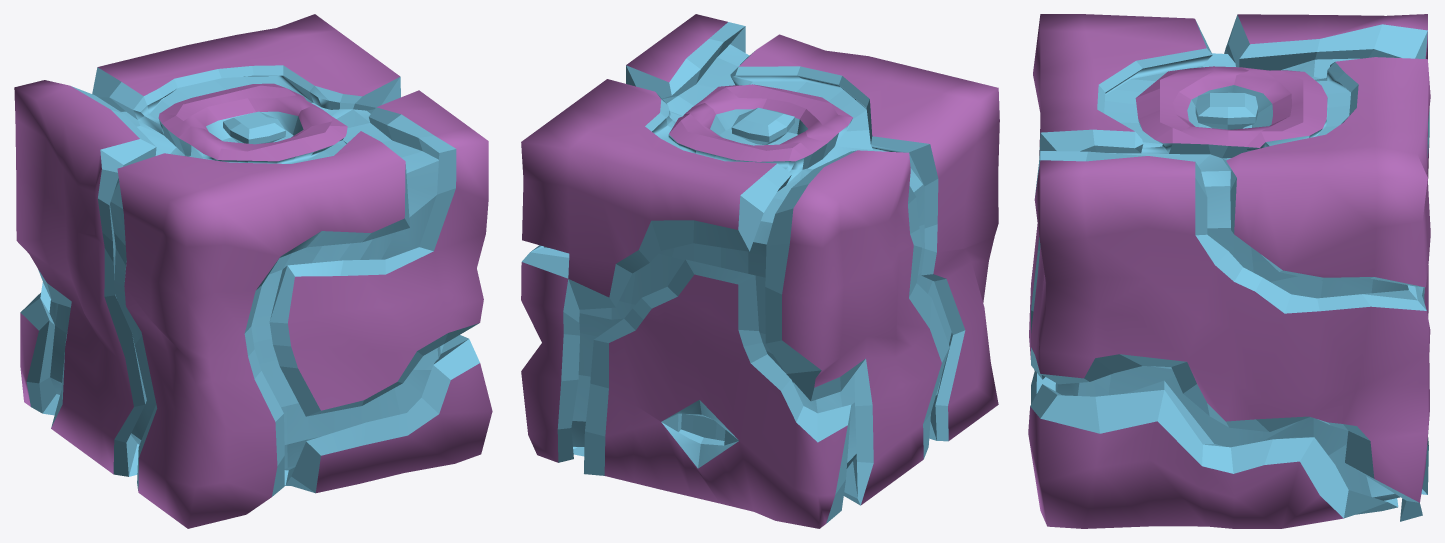
Rendered from Spock_Neutral3.1.fbx.
3 renders of one model, left to right at view 1: azimuth 30°, elevation 25°; view 2: azimuth 150°, elevation 25°; view 3: azimuth 270°, elevation 25°, orthographic. The views are drawn at different scales.
Visible parts, largest first — view 1: Spock_ingame; view 2: Spock_ingame; view 3: Spock_ingame.
Part boxes in pixels (<box>): Spock_ingame: <box>14,14,492,528</box>; Spock_ingame: <box>521,14,999,528</box>; Spock_ingame: <box>1028,14,1430,528</box>.
Size of the model in its own units: 103 by 104 by 104.
